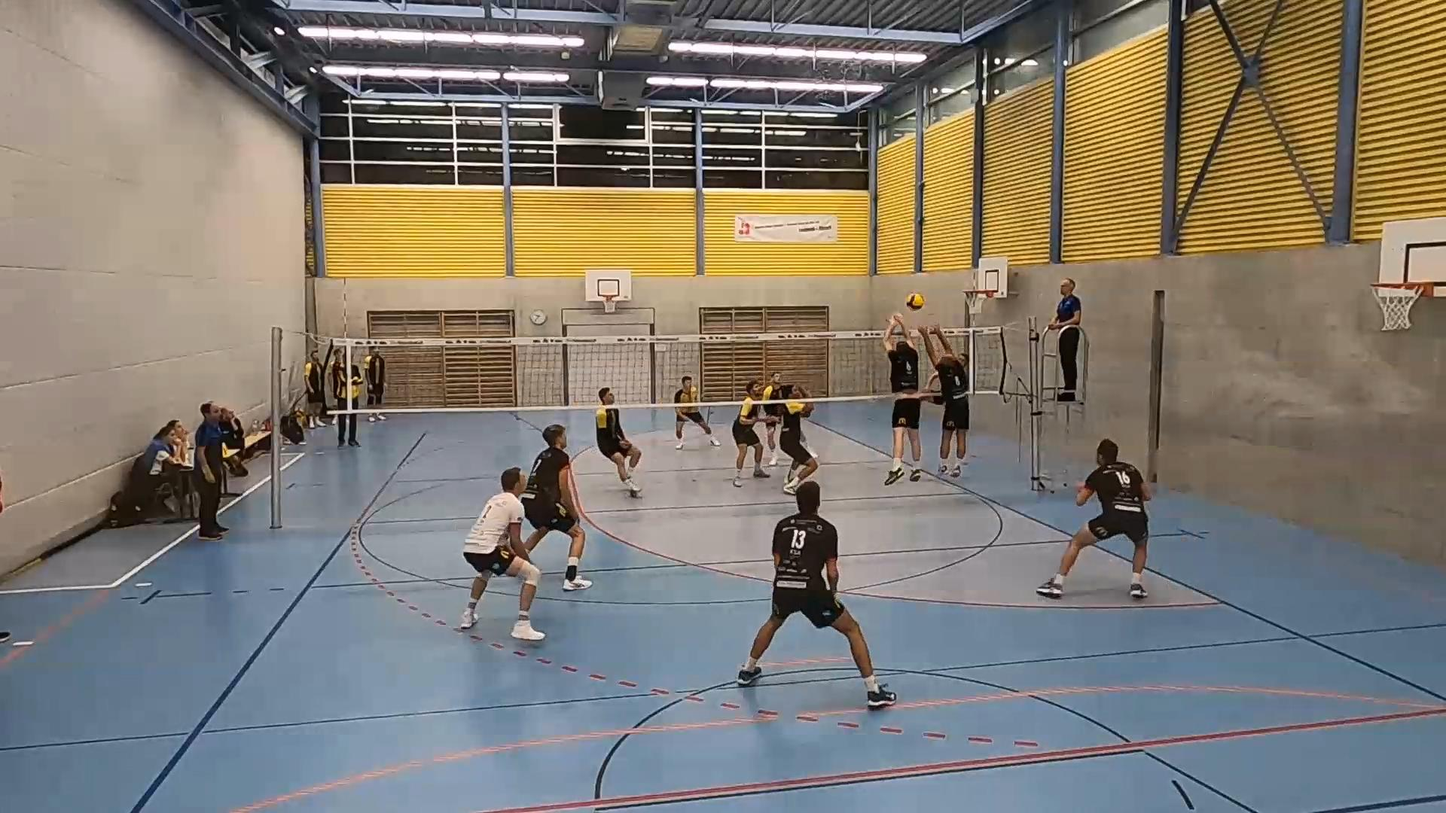Attack: (928, 331, 997, 403)
Block: (919, 322, 980, 487), (882, 311, 922, 486)
Player: (737, 481, 895, 708), (1036, 439, 1151, 599), (459, 467, 545, 641), (520, 425, 591, 590), (595, 387, 642, 497), (779, 385, 818, 494), (731, 379, 770, 487), (673, 376, 720, 449), (761, 371, 783, 466)
ball: (904, 296, 926, 309)
